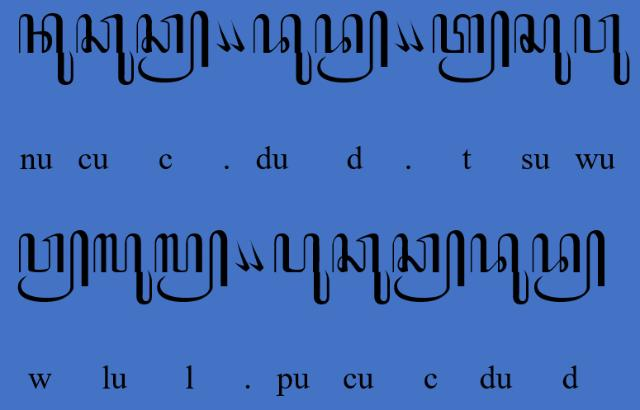-c: (136, 9, 210, 83), (391, 230, 465, 304)
-d: (532, 230, 606, 304), (316, 10, 388, 84)
-l: (155, 230, 229, 302)
-t: (430, 10, 510, 84)
-w: (17, 228, 89, 304)
cu: (331, 233, 391, 306), (76, 14, 134, 86)
du: (252, 12, 314, 86), (470, 232, 530, 306)
kom: (215, 20, 233, 54), (232, 239, 250, 271), (248, 238, 264, 274), (394, 22, 411, 54), (408, 21, 424, 53), (231, 19, 245, 53)
lu: (93, 232, 153, 306)
nu: (16, 12, 74, 88)
pu: (273, 233, 331, 306)
su: (514, 14, 572, 86)
wu: (574, 15, 630, 86)
